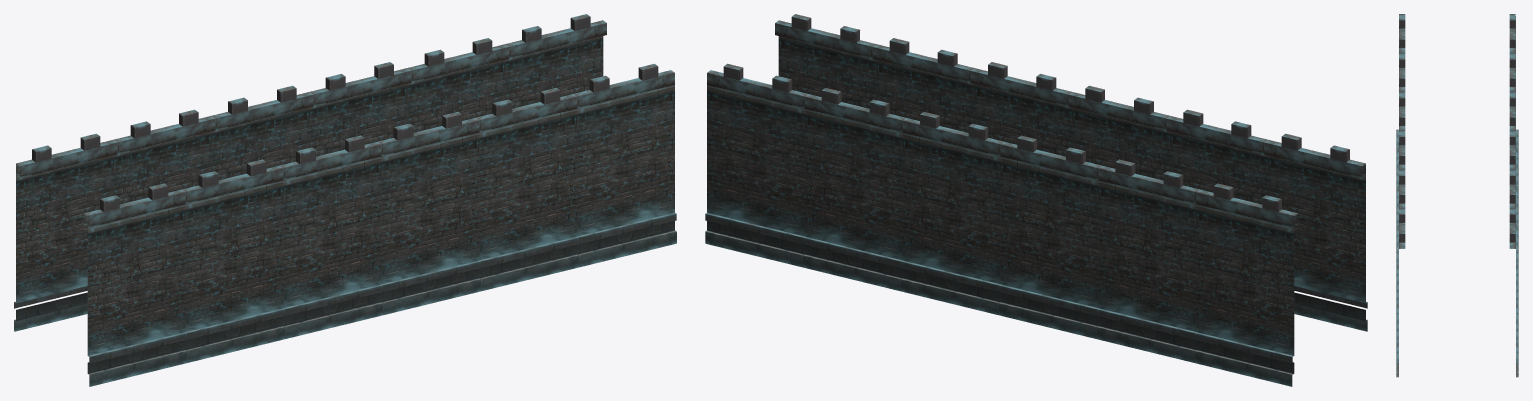
The model's file is chengqiang06.FBX.
The picture shows the model from 3 angles, left to right: view 1: azimuth 30°, elevation 25°; view 2: azimuth 150°, elevation 25°; view 3: azimuth 270°, elevation 25°; orthographic projection. The views are drawn at different scales.
Visible parts, largest first — view 1: s7_city_new_chengqiang002; view 2: s7_city_new_chengqiang002; view 3: s7_city_new_chengqiang002.
Boxes of the visible parts, bbox=[...] form: s7_city_new_chengqiang002: bbox=[14, 14, 676, 386]; s7_city_new_chengqiang002: bbox=[705, 14, 1367, 386]; s7_city_new_chengqiang002: bbox=[1396, 14, 1518, 377].
Bounding box in the file's own units: 41.68 × 12.2 × 9.26.
